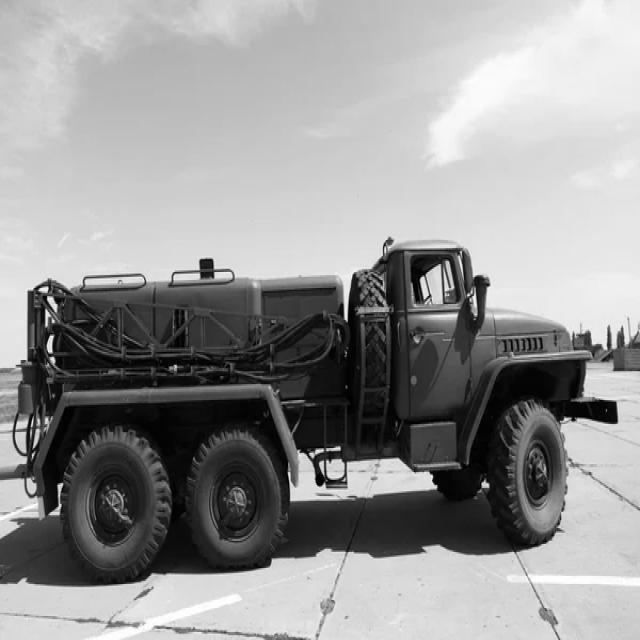Truck: (17, 240, 620, 584)
